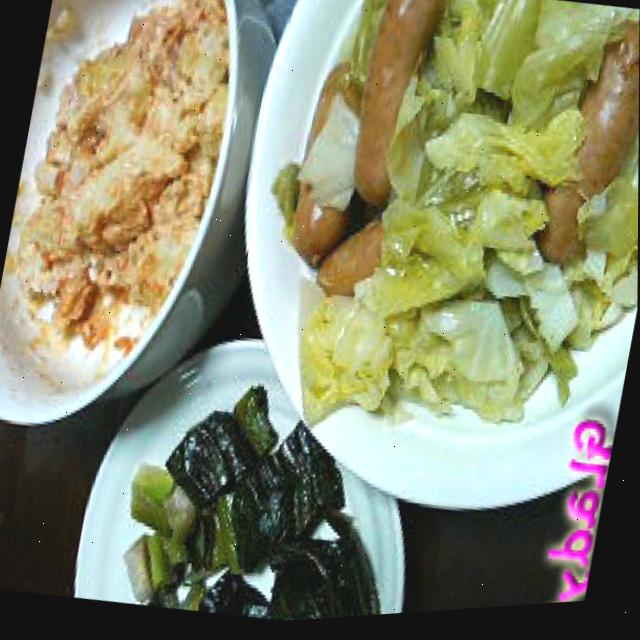蔬菜料理: (222, 0, 640, 451)
